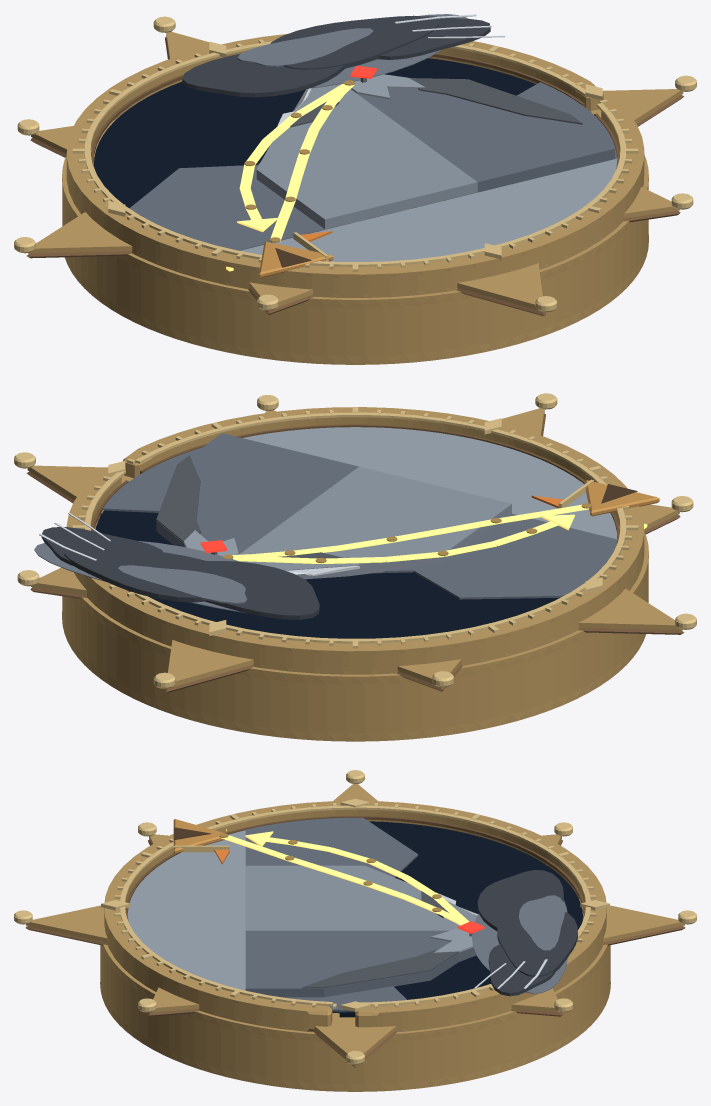
File: retreat_wise.glb
3 renders of one model, top to bottom at view 1: azimuth 30°, elevation 25°; view 2: azimuth 150°, elevation 25°; view 3: azimuth 270°, elevation 25°, orthographic. The views are drawn at different scales.
Parts seen in each view (by area): view 1: RW_Medallion, RW_Rim, RW_FaceLight, RW_SkyTopB, RW_Snowfield, RW_FaceDark, RW_FarRidge, RW_PointsTop, RW_RimLip, RW_StormA, RW_StormB, RW_Route (+11 smaller); view 2: RW_Medallion, RW_Rim, RW_FaceLight, RW_Snowfield, RW_SkyTopB, RW_FarRidge, RW_FaceDark, RW_PointsTop, RW_RimLip, RW_StormB, RW_StormA, RW_Route (+11 smaller); view 3: RW_Medallion, RW_Rim, RW_Snowfield, RW_FaceLight, RW_FaceDark, RW_SkyTopB, RW_PointsTop, RW_FarRidge, RW_RimLip, RW_StormB, RW_Route, RW_StormA (+11 smaller).
Part boxes in pixels (x1=…): RW_Medallion: x1=62, y1=155, x2=648, y2=364; RW_Rim: x1=66, y1=34, x2=644, y2=297; RW_FaceLight: x1=256, y1=84, x2=477, y2=229; RW_SkyTopB: x1=94, y1=58, x2=535, y2=208; RW_Snowfield: x1=239, y1=158, x2=616, y2=261; RW_FaceDark: x1=351, y1=88, x2=614, y2=192; RW_FarRidge: x1=129, y1=82, x2=616, y2=250; RW_PointsTop: x1=27, y1=31, x2=683, y2=310; RW_RimLip: x1=84, y1=41, x2=626, y2=266; RW_StormA: x1=182, y1=53, x2=344, y2=97; RW_StormB: x1=270, y1=15, x2=438, y2=69; RW_Route: x1=239, y1=83, x2=354, y2=241; RW_Medallion: x1=62, y1=522, x2=648, y2=741; RW_Rim: x1=66, y1=407, x2=644, y2=674; RW_FaceLight: x1=239, y1=466, x2=511, y2=579; RW_Snowfield: x1=243, y1=427, x2=616, y2=541; RW_SkyTopB: x1=95, y1=510, x2=559, y2=638; RW_FarRidge: x1=102, y1=447, x2=616, y2=599; RW_FaceDark: x1=156, y1=433, x2=358, y2=554; RW_PointsTop: x1=27, y1=408, x2=682, y2=686; RW_RimLip: x1=85, y1=412, x2=626, y2=643; RW_StormB: x1=64, y1=544, x2=236, y2=602; RW_StormA: x1=205, y1=561, x2=319, y2=619; RW_Route: x1=232, y1=504, x2=588, y2=563; RW_Medallion: x1=100, y1=944, x2=610, y2=1091; RW_Rim: x1=104, y1=801, x2=606, y2=1031; RW_Snowfield: x1=128, y1=830, x2=245, y2=990; RW_FaceLight: x1=245, y1=865, x2=477, y2=930; RW_FaceDark: x1=245, y1=930, x2=476, y2=997; RW_SkyTopB: x1=339, y1=821, x2=582, y2=1017; RW_PointsTop: x1=26, y1=784, x2=684, y2=1056; RW_FarRidge: x1=245, y1=817, x2=418, y2=1011; RW_RimLip: x1=120, y1=805, x2=590, y2=1006; RW_StormB: x1=497, y1=907, x2=577, y2=977; RW_Route: x1=221, y1=835, x2=469, y2=925; RW_StormA: x1=477, y1=870, x2=563, y2=930.
Size of the model in its own units: 0.0436 by 0.00628 by 0.0436.
